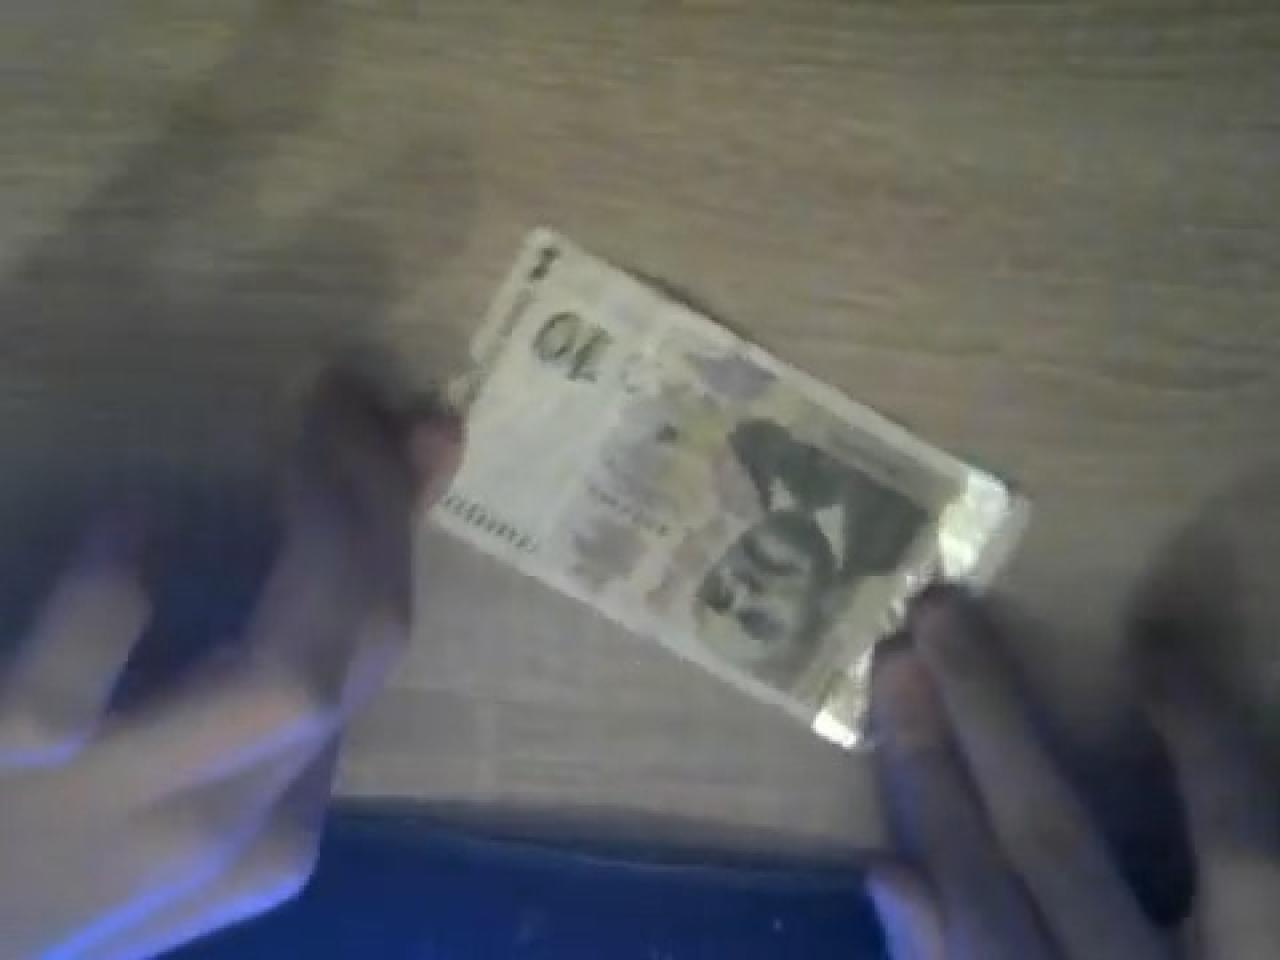10leva: (434, 227, 1035, 749)
